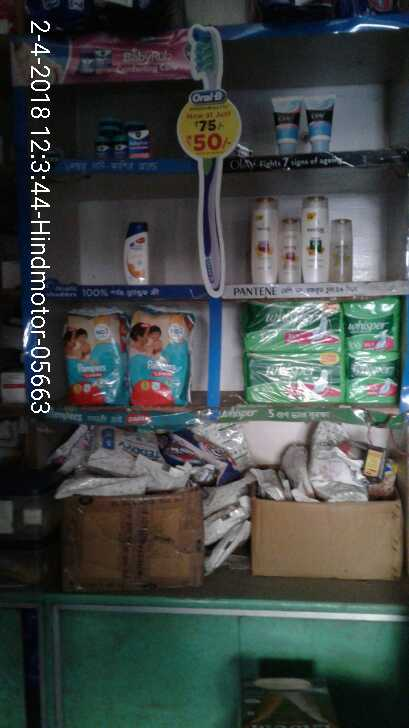vicks: (93, 112, 154, 164)
